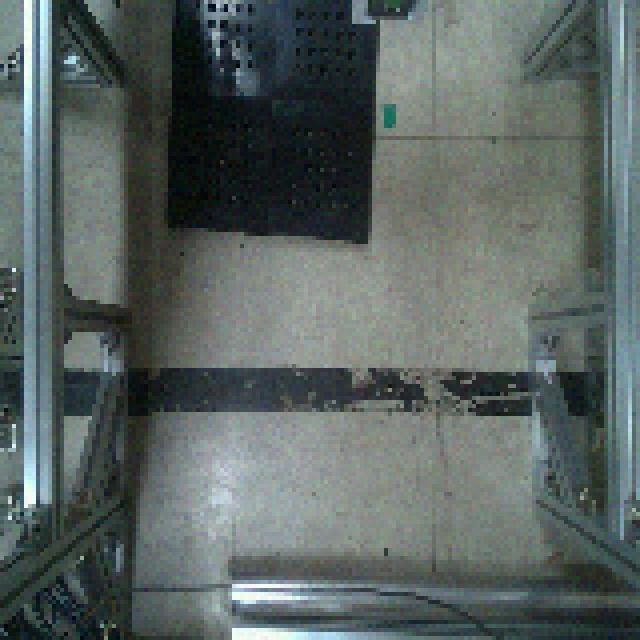pallet: (158, 0, 392, 245)
